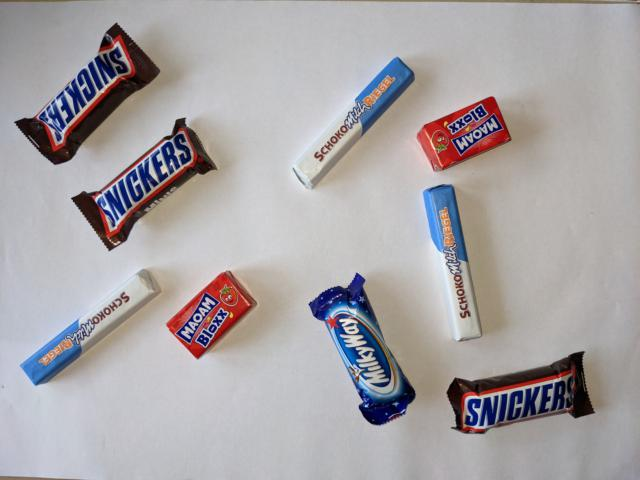MAOAM: (163, 267, 261, 362), (414, 94, 513, 176)
MilkyWay: (307, 271, 418, 428)
Schokoriegel: (15, 265, 165, 391), (287, 54, 417, 194), (421, 182, 487, 347)
Snickers: (12, 21, 163, 167), (68, 115, 221, 255), (443, 349, 599, 438)
